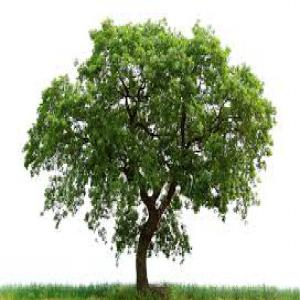Tree: (21, 6, 275, 292)
